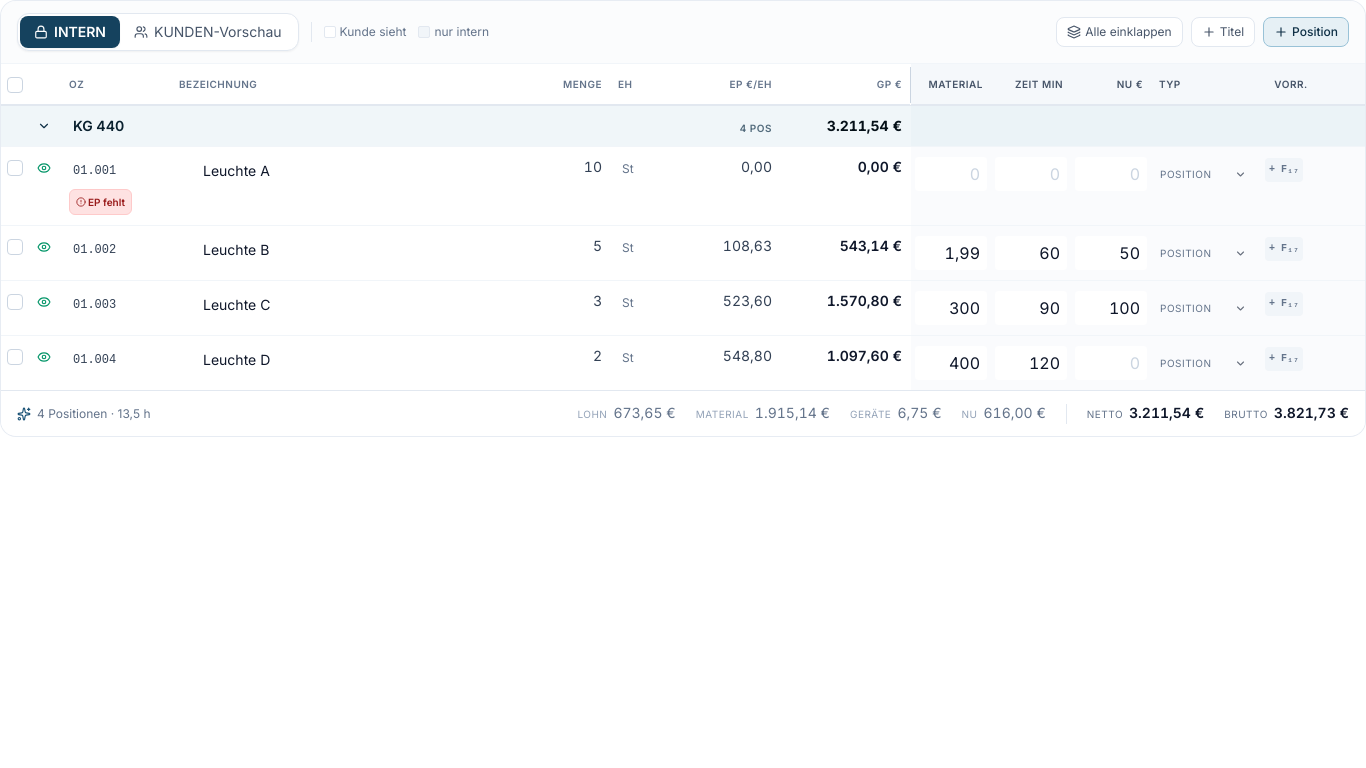
Test case: PositionTableV2 bulk-edit edges — shift+click corners › Shift+click range across a header row → header is excluded (only standards selected)
Step 1. Click the checkbox with test id "v2-select-row-r1" → (15, 168), box [7, 160, 23, 176]
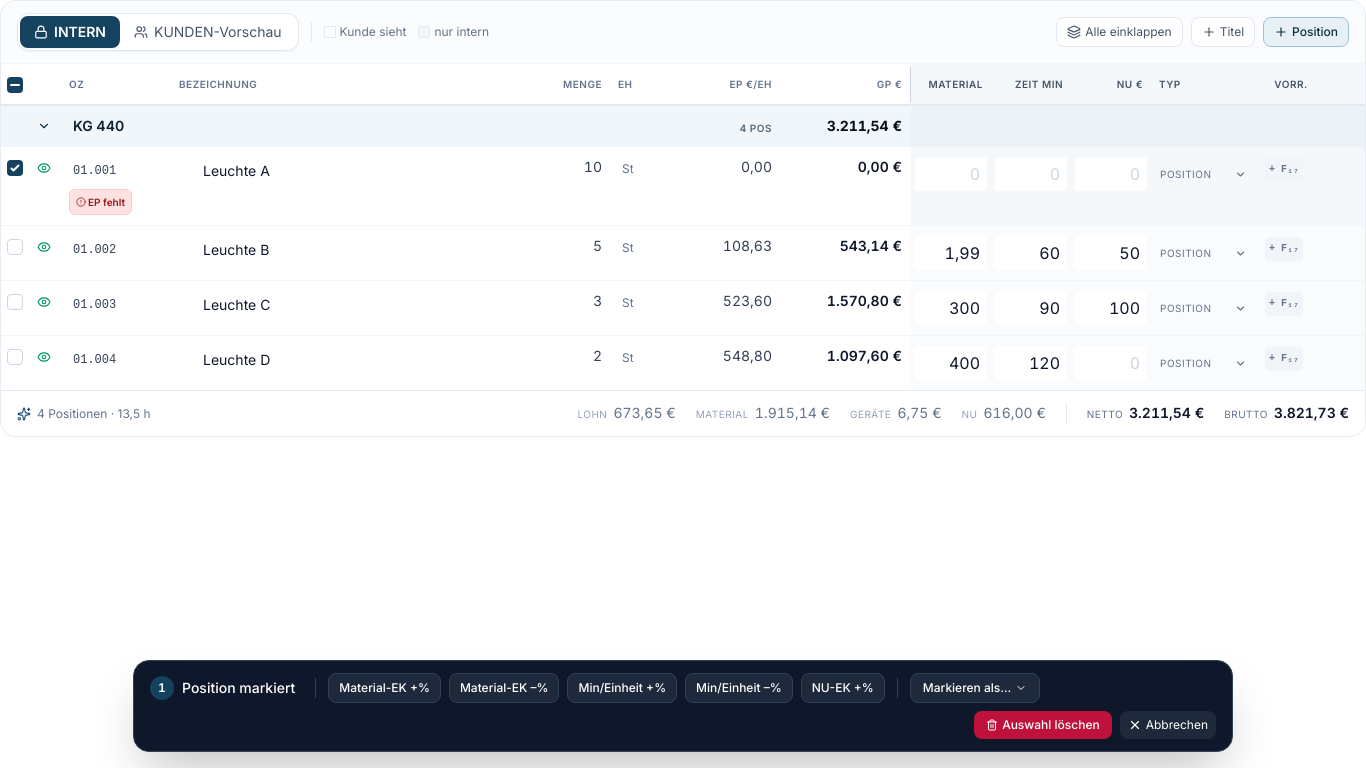
Step 2. Click the checkbox with test id "v2-select-row-r4" → (15, 358), box [7, 350, 23, 366]
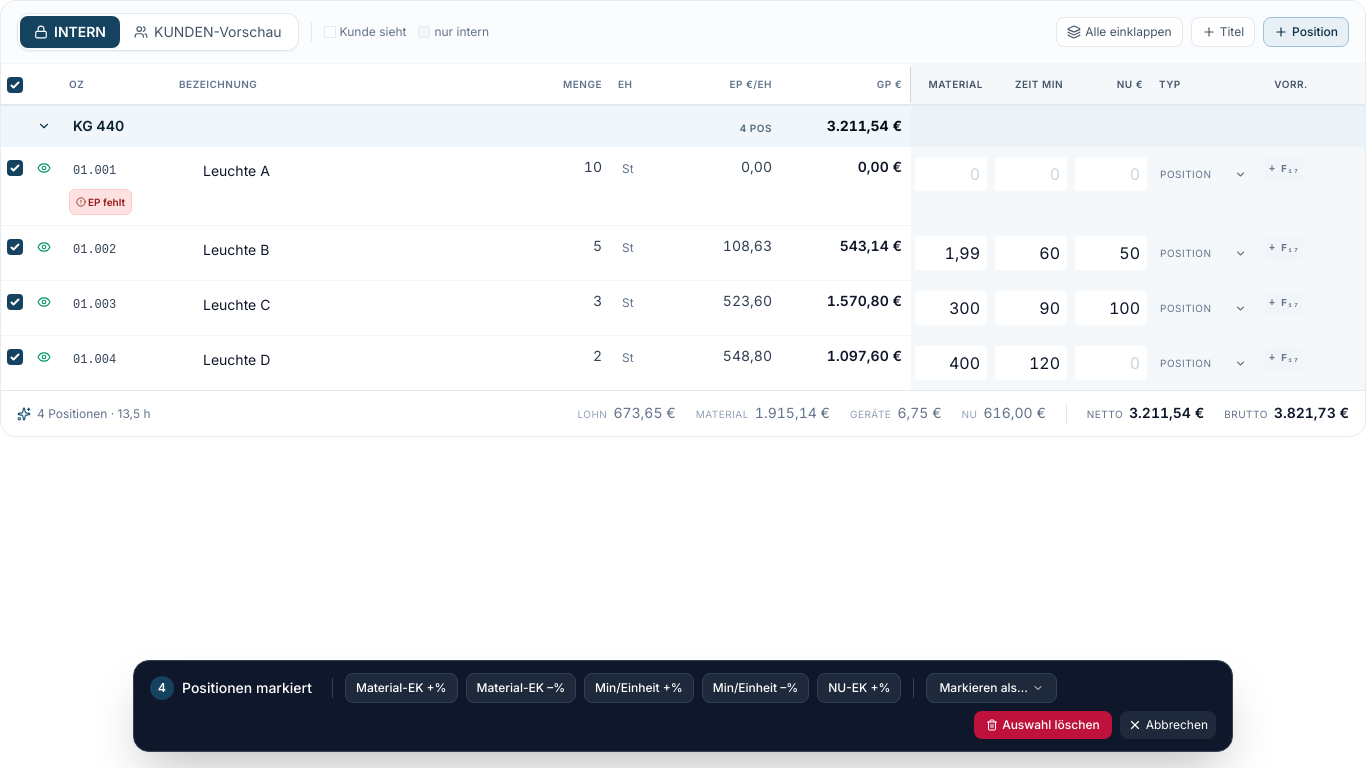
Result: the checkbox with test id "v2-select-row-r1" is checked at [7, 160, 23, 176]
Result: the checkbox with test id "v2-select-row-r2" is checked at [7, 240, 23, 256]
Result: the checkbox with test id "v2-select-row-r3" is checked at [7, 294, 23, 310]
